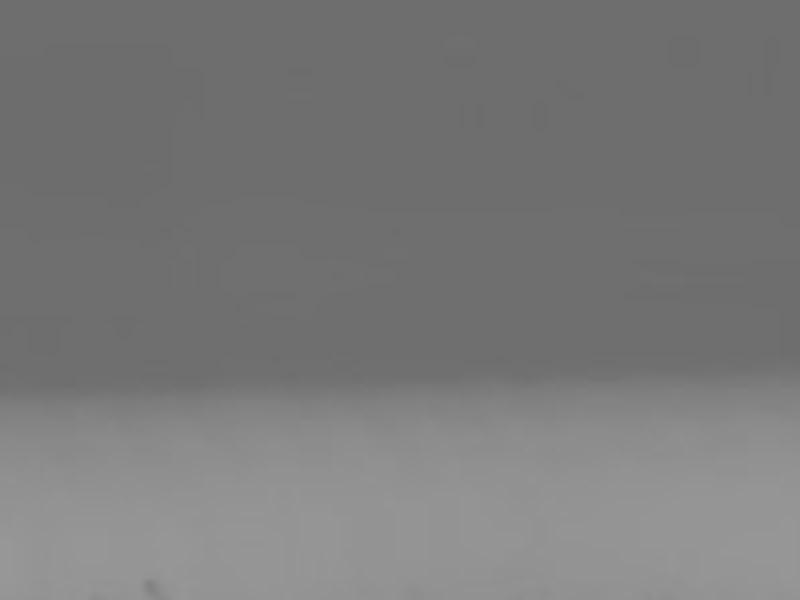defect: (135, 573, 164, 596)
